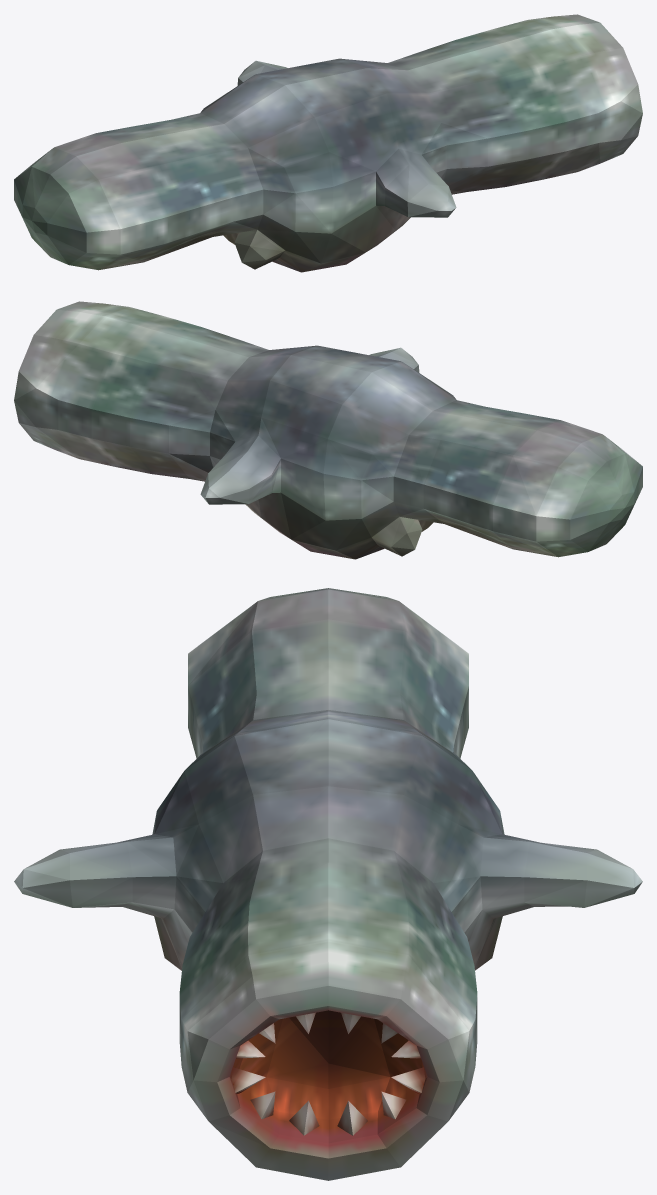
File: Giggi.glb
3 renders of one model, top to bottom at view 1: azimuth 30°, elevation 25°; view 2: azimuth 150°, elevation 25°; view 3: azimuth 270°, elevation 25°, orthographic. The views are drawn at different scales.
Visible parts, largest first — view 1: m026_BM_01_Mesh; view 2: m026_BM_01_Mesh; view 3: m026_BM_01_Mesh.
Boxes of the visible parts, bbox=[...] form: m026_BM_01_Mesh: bbox=[14, 14, 642, 272]; m026_BM_01_Mesh: bbox=[14, 301, 642, 559]; m026_BM_01_Mesh: bbox=[14, 588, 642, 1180].
Size of the model in its own units: 0.9855 by 0.2913 by 0.593.
1 material, 1 textured.
